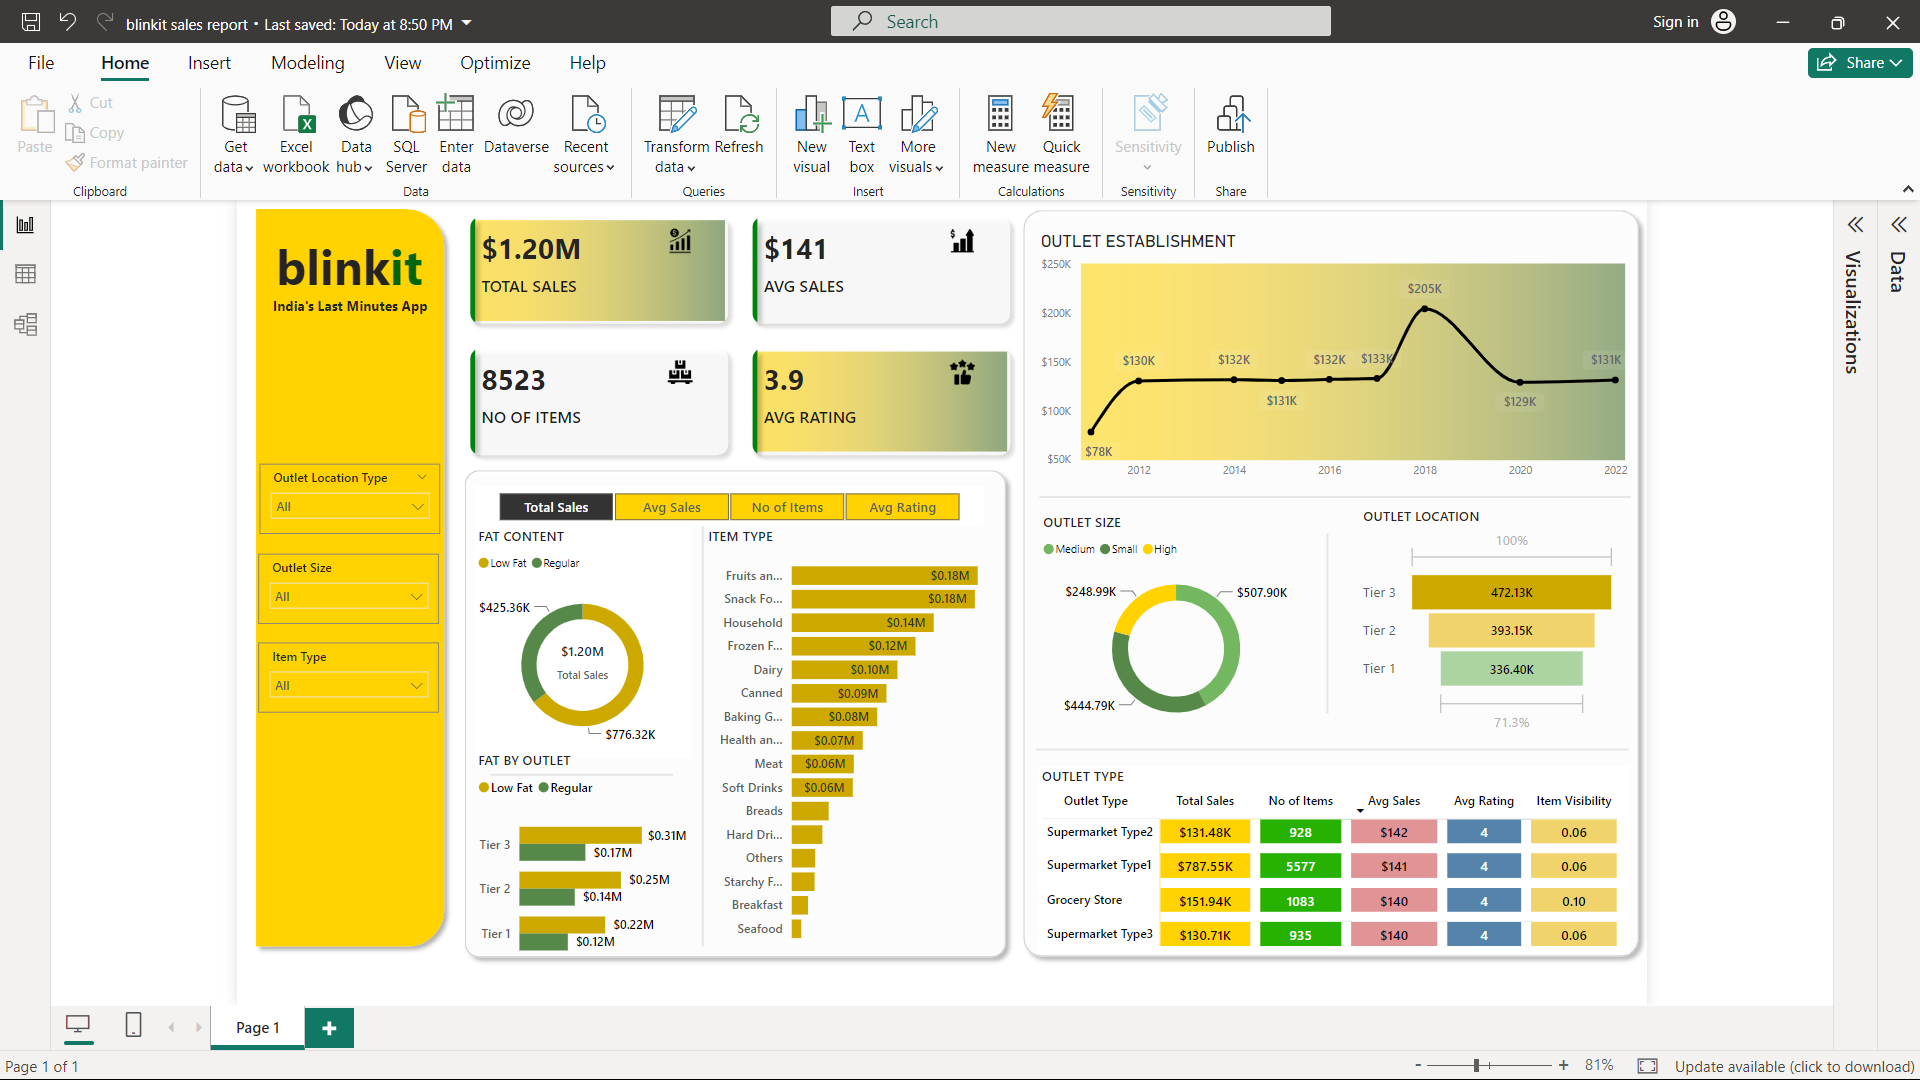

This screenshot's page, from the dashboard's own definition file:
{"tool":"powerbi","page":{"name":"Page 1","canvas":[1400,800],"ordinal":0},"visuals":[{"type":"shape","box":[10,0,205,750],"z":0},{"type":"textbox","box":[22.3,27.3,178.6,76.9],"z":1000},{"type":"textbox","box":[15,90.1,195.1,28.5],"z":2000},{"type":"cardVisual","fields":{"Data":["BlinkIT Grocery Data.Total Sales","BlinkIT Grocery Data.Avg Sales","BlinkIT Grocery Data.No of Items","BlinkIT Grocery Data.Avg Rating"]},"box":[214.4,0,570.9,270.7],"z":3000},{"type":"shape","box":[217.1,258.6,554.8,501.2],"z":4000},{"type":"donutChart","title":"FAT CONTENT","fields":{"Y":["BlinkIT Grocery Data.Total Sales"],"Category":["BlinkIT Grocery Data.Item Fat Content"]},"box":[234.5,324.3,217.1,230.5],"z":5000},{"type":"slicer","fields":{"Values":["Metrics.Metrics"]},"box":[234.5,284.1,506.5,40.2],"z":6000},{"type":"cardVisual","fields":{"Data":["BlinkIT Grocery Data.Total Sales"]},"box":[296.1,422.1,93.8,71],"z":7000},{"type":"clusteredBarChart","title":"FAT BY OUTLET","fields":{"Y":["BlinkIT Grocery Data.Total Sales"],"Category":["BlinkIT Grocery Data.Outlet Location Type"],"Series":["BlinkIT Grocery Data.Item Fat Content"]},"box":[234.5,545.4,217.1,223.8],"z":8000},{"type":"shape","box":[251.9,564.2,180.9,12.1],"z":9000},{"type":"shape","box":[451.6,324.3,21.4,416.8],"z":10000},{"type":"barChart","title":"ITEM TYPE","fields":{"Y":["BlinkIT Grocery Data.Total Sales"],"Category":["BlinkIT Grocery Data.Item Type"]},"box":[462.3,324.3,300.2,423.5],"z":11000},{"type":"shape","box":[771.9,1.3,628.5,758.5],"z":12000},{"type":"lineChart","title":"OUTLET ESTABLISHMENT","fields":{"Category":["BlinkIT Grocery Data.Outlet Establishment Year"],"Y":["BlinkIT Grocery Data.Total Sales"]},"box":[792,30.8,592.3,254.6],"z":13000},{"type":"shape","box":[796,285.4,586.9,18.8],"z":14000},{"type":"donutChart","title":"OUTLET SIZE","fields":{"Y":["BlinkIT Grocery Data.Total Sales"],"Category":["BlinkIT Grocery Data.Outlet Size"]},"box":[794.9,310.1,274,225],"z":15000},{"type":"shape","box":[1076,331,10.7,178.2],"z":16000},{"type":"funnel","title":"OUTLET LOCATION","fields":{"Y":["Sum(BlinkIT Grocery Data.Sales)"],"Category":["BlinkIT Grocery Data.Outlet Location Type"]},"box":[1112.2,304.2,261.3,229.1],"z":17000},{"type":"shape","box":[792,536,588.3,18.8],"z":18000},{"type":"pivotTable","title":"OUTLET TYPE","fields":{"Rows":["BlinkIT Grocery Data.Outlet Type"],"Values":["BlinkIT Grocery Data.Total Sales","BlinkIT Grocery Data.No of Items","BlinkIT Grocery Data.Avg Sales","BlinkIT Grocery Data.Avg Rating","Avg(BlinkIT Grocery Data.Item Visibility)"]},"box":[793.3,561.5,588.3,186.3],"z":19000},{"type":"slicer","fields":{"Values":["BlinkIT Grocery Data.Outlet Location Type"]},"box":[22.8,261.3,179.6,69.7],"z":20000},{"type":"slicer","fields":{"Values":["BlinkIT Grocery Data.Outlet Size"]},"box":[21.4,351.1,179.6,69.7],"z":21000},{"type":"slicer","fields":{"Values":["BlinkIT Grocery Data.Item Type"]},"box":[21.4,439.5,179.6,69.7],"z":22000}]}

Visuals, with their boxes on the page's 1400x800 design canvas (x1, y1, x2, y2). These are canvas units, not pixel positions in the 1920x1080 screenshot, which may show the page scaled, cropped or inside an application window:
shape: 10:0:215:750
textbox: 22:27:201:104
textbox: 15:90:210:119
cardVisual - BlinkIT Grocery Data.Total Sales x BlinkIT Grocery Data.Avg Sales: 214:0:785:271
shape: 217:259:772:760
"FAT CONTENT" donutChart: 234:324:452:555
slicer - Metrics.Metrics: 234:284:741:324
cardVisual - BlinkIT Grocery Data.Total Sales: 296:422:390:493
"FAT BY OUTLET" clusteredBarChart: 234:545:452:769
shape: 252:564:433:576
shape: 452:324:473:741
"ITEM TYPE" barChart: 462:324:762:748
shape: 772:1:1400:760
"OUTLET ESTABLISHMENT" lineChart: 792:31:1384:285
shape: 796:285:1383:304
"OUTLET SIZE" donutChart: 795:310:1069:535
shape: 1076:331:1087:509
"OUTLET LOCATION" funnel: 1112:304:1374:533
shape: 792:536:1380:555
"OUTLET TYPE" pivotTable: 793:562:1382:748
slicer - BlinkIT Grocery Data.Outlet Location Type: 23:261:202:331
slicer - BlinkIT Grocery Data.Outlet Size: 21:351:201:421
slicer - BlinkIT Grocery Data.Item Type: 21:440:201:509
